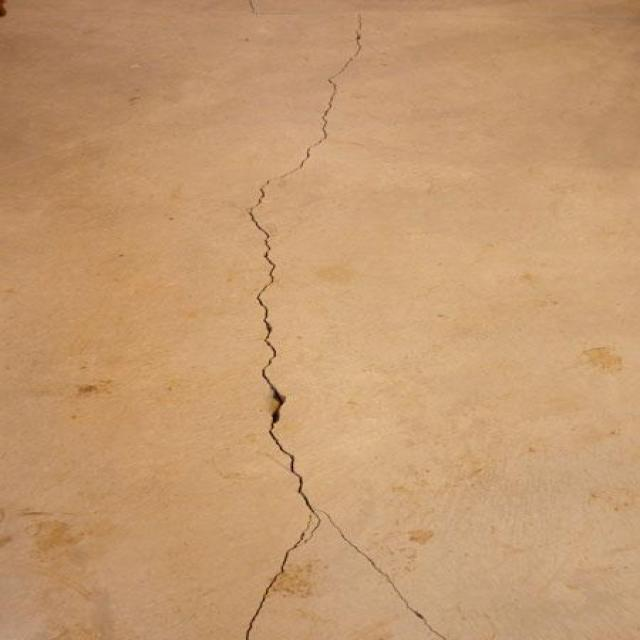multi-branched crack: (204, 0, 452, 640)
